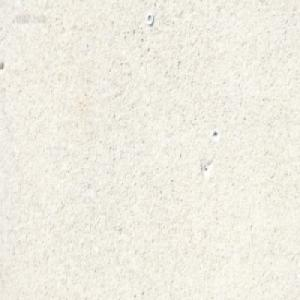Washer: (146, 11, 153, 26)
